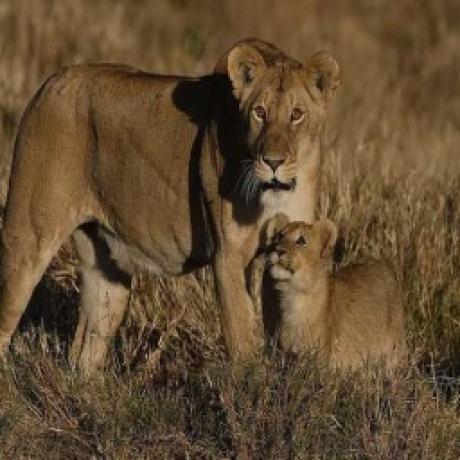Lion: (0, 35, 344, 362), (267, 214, 404, 365)
